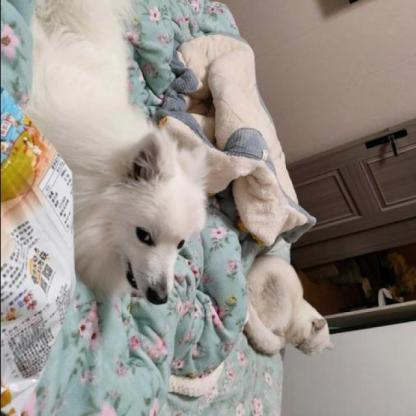cat: (244, 253, 330, 359)
dog: (69, 107, 237, 297)
